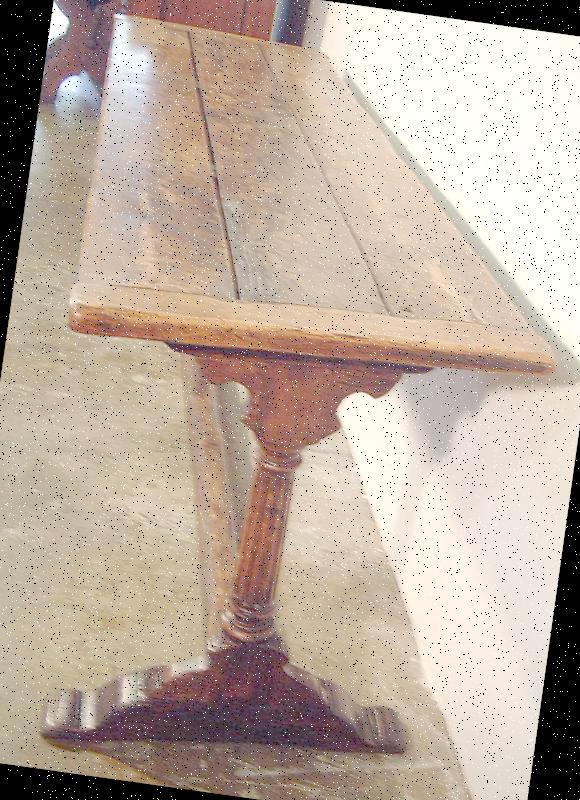Mesa: (9, 3, 579, 799)
